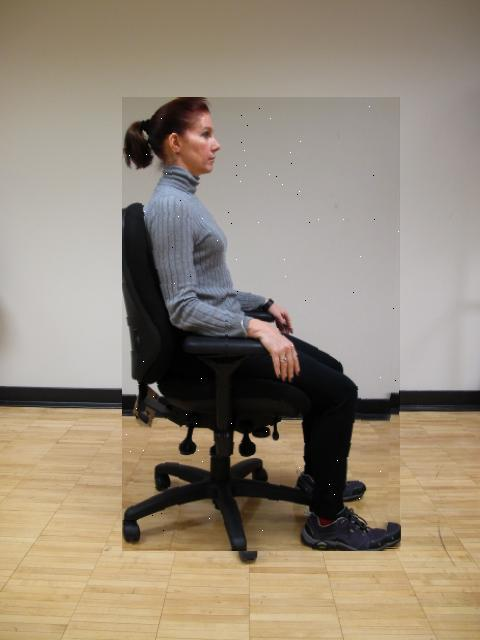bad-pose: (0, 0, 480, 640)
good-pose: (0, 0, 480, 640)
